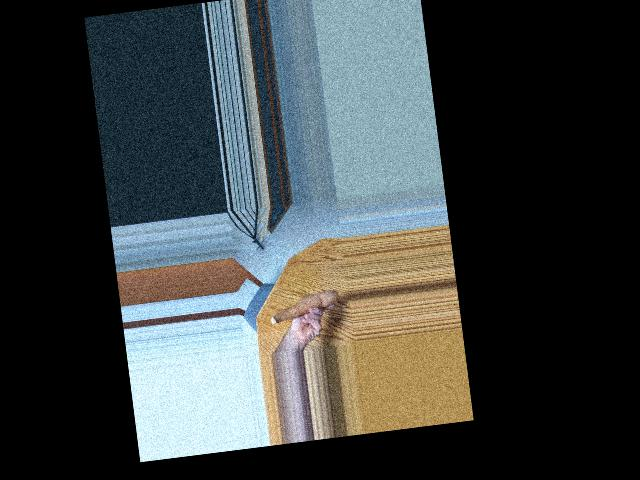sweet_potato: (267, 287, 341, 326)
